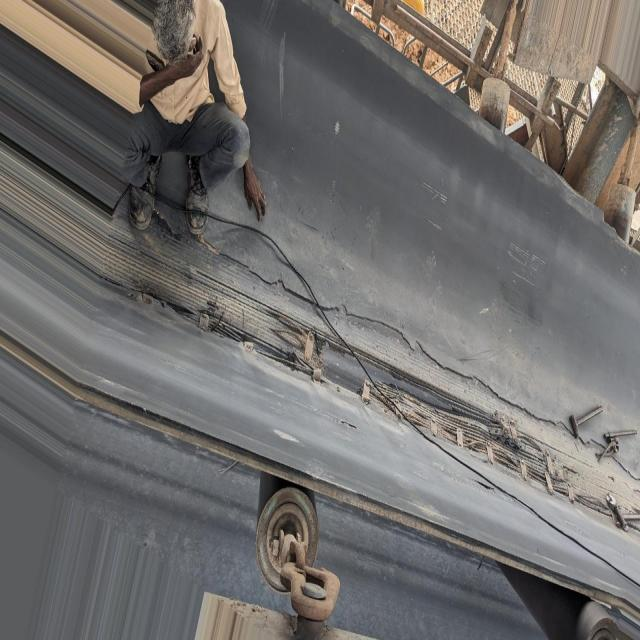Human: (128, 0, 271, 245)
Roller: (501, 565, 616, 640), (256, 473, 320, 588), (476, 75, 511, 138), (605, 182, 635, 247)
Tear: (179, 247, 635, 532)
